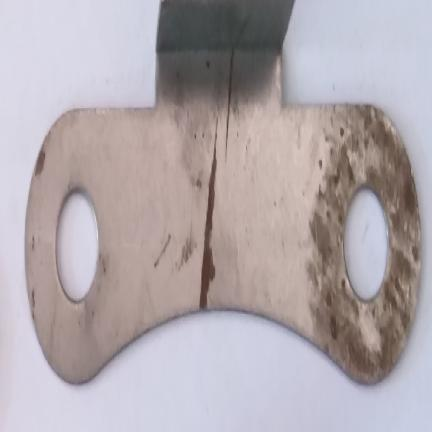besi_tidak_karat: (25, 51, 421, 384)
